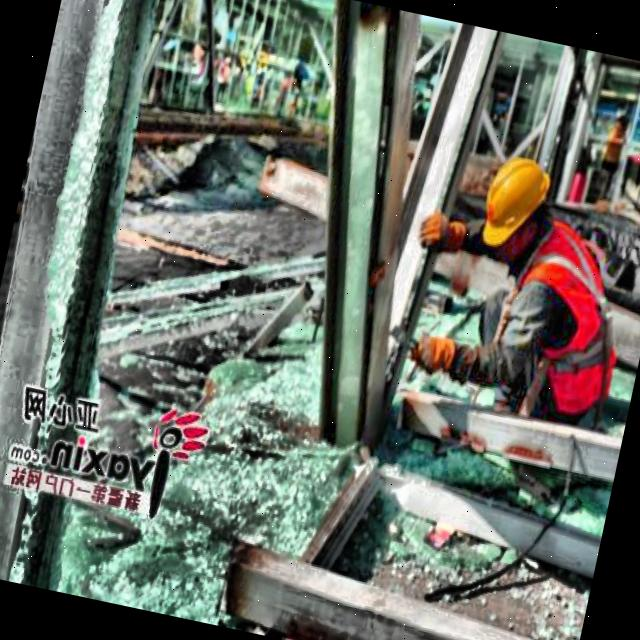helmet: (471, 142, 565, 266)
